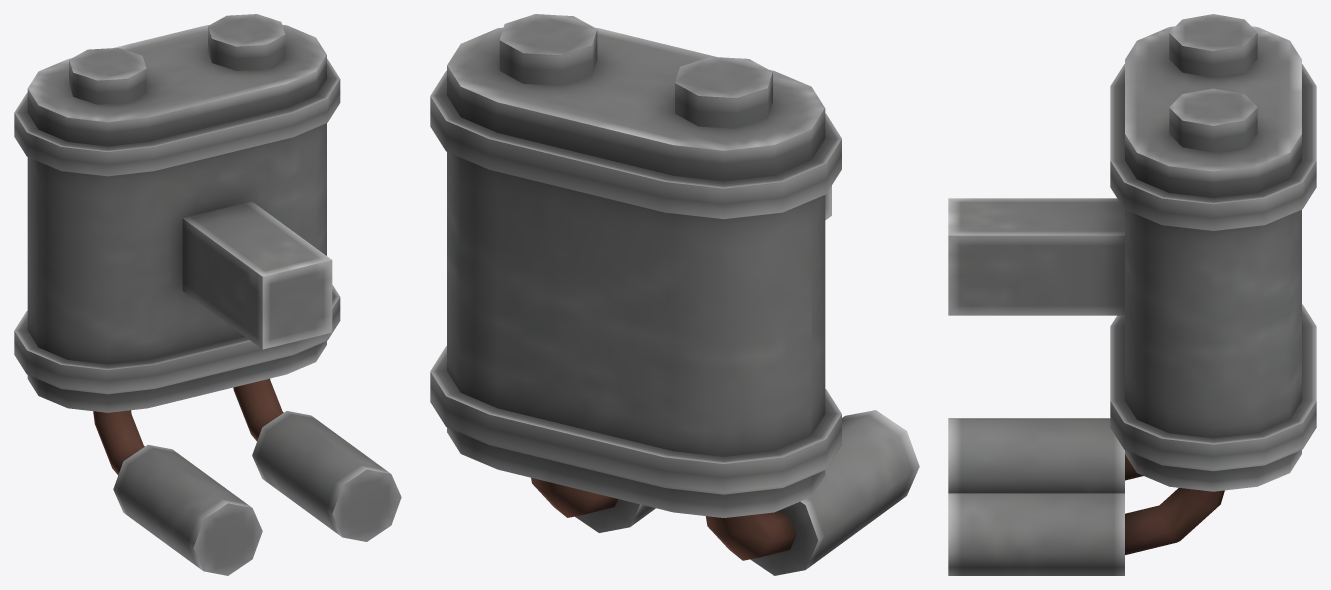
The model's file is 4mv_battery_srf_2.obj.
The picture shows the model from 3 angles, left to right: view 1: azimuth 30°, elevation 25°; view 2: azimuth 150°, elevation 25°; view 3: azimuth 270°, elevation 25°; orthographic projection. The views are drawn at different scales.
Visible parts, largest first — view 1: mesh1; view 2: mesh1; view 3: mesh1.
Part boxes in pixels (x1,y1,x2,y2): mesh1: [14, 14, 401, 575]; mesh1: [430, 14, 919, 575]; mesh1: [948, 14, 1316, 575].
Bounding box in the file's own units: 0.1625 × 0.2187 × 0.1562.
1 material, 1 textured.
